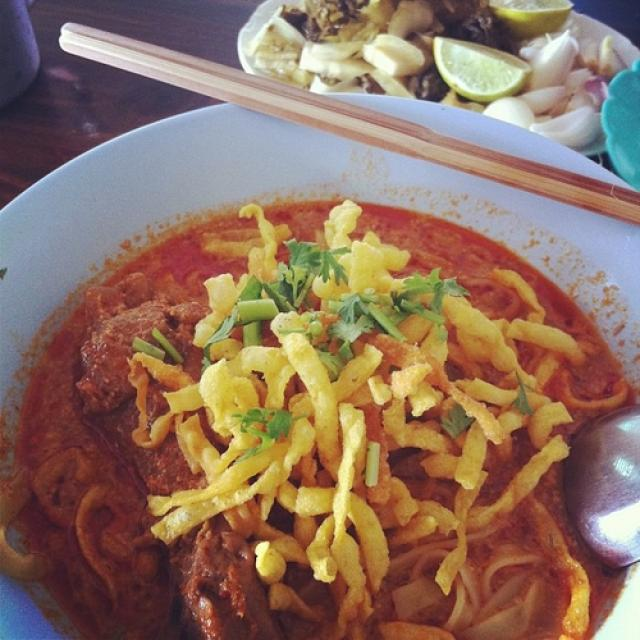面条主食: (1, 128, 634, 631)
